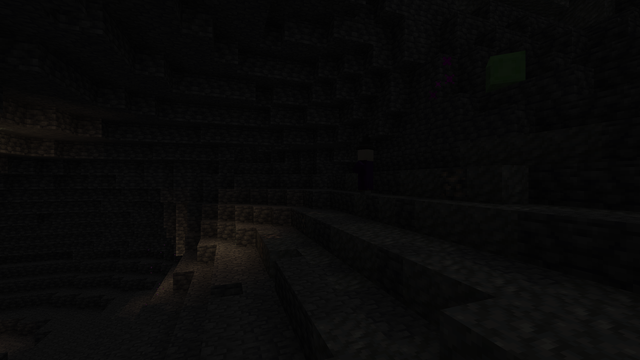slimes: (480, 49, 528, 91)
sorcieres: (355, 147, 374, 195)
